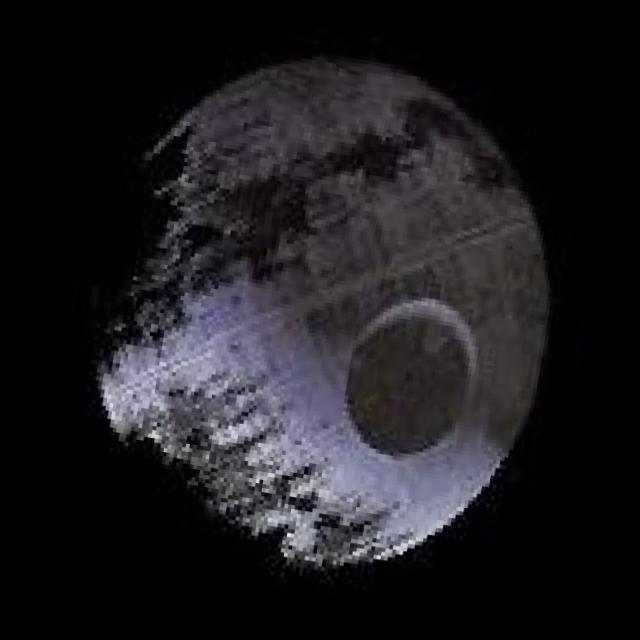Death Star: (62, 17, 594, 610)
